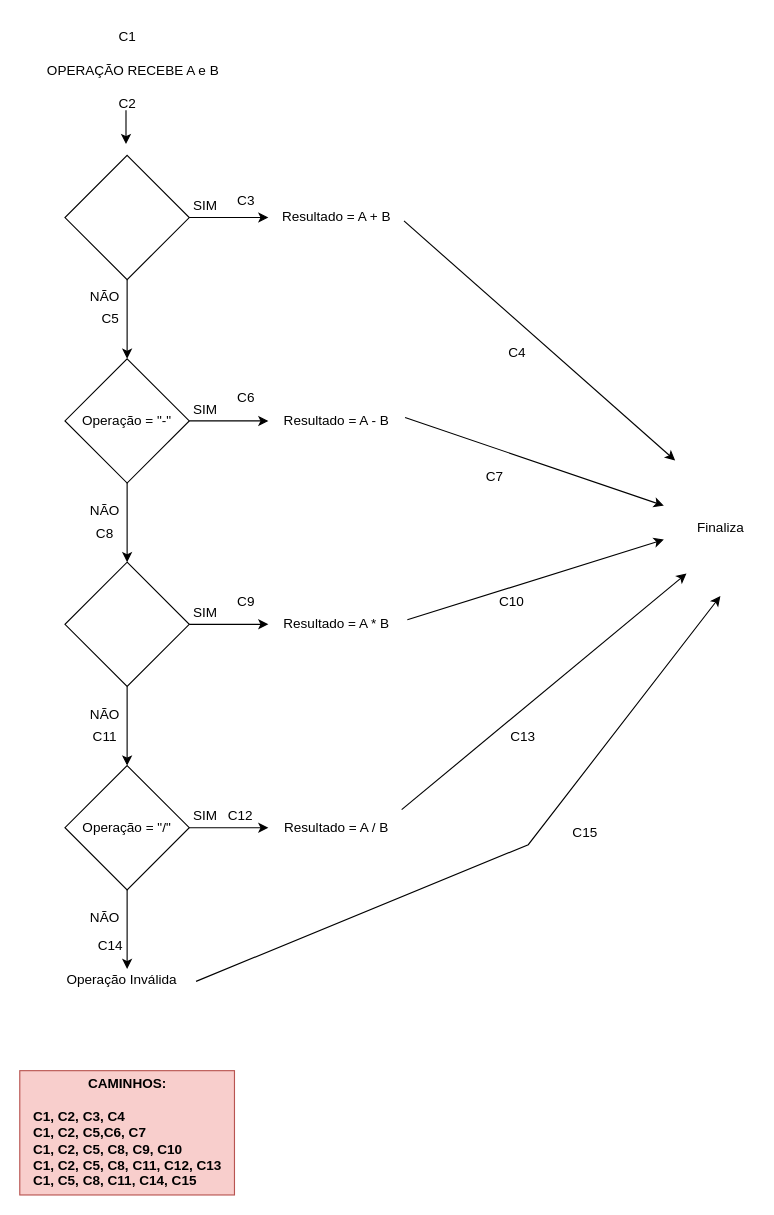
Some shapes in this 774 by 1215 pixel diagram are drawn without their labels. Each missing label, with the box of its shape:
Operação = "*": (64, 561, 189, 686)
Operação = "+": (64, 154, 189, 280)
